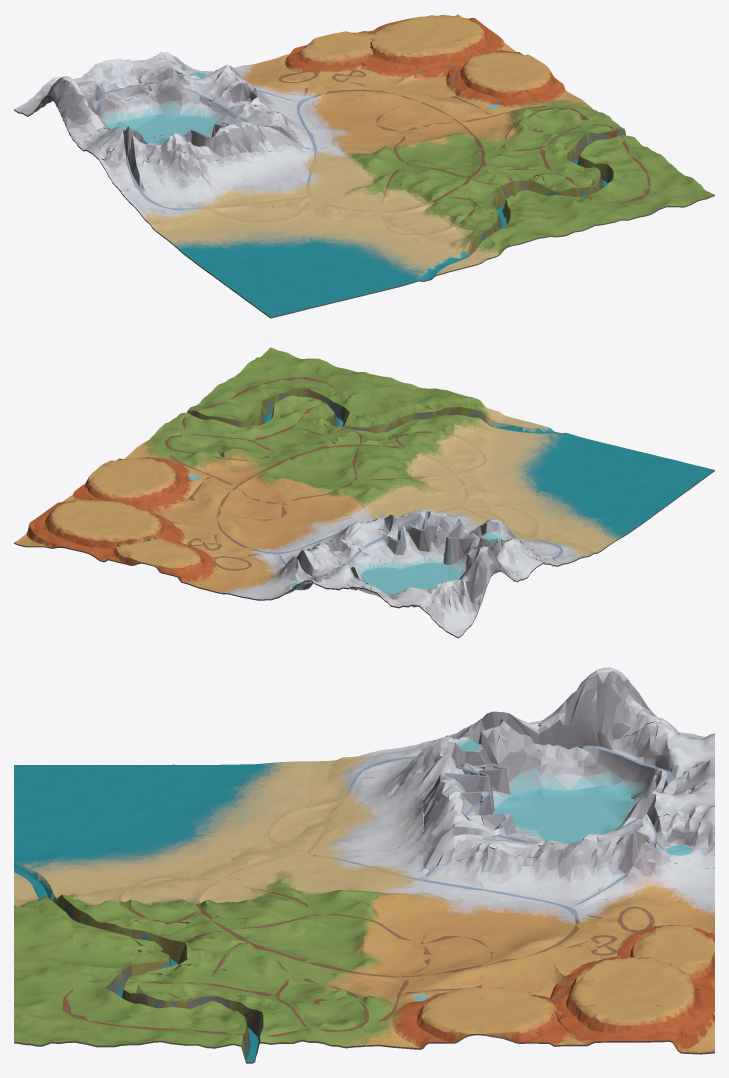
Rendered from terrain_lod1.glb.
The picture shows the model from 3 angles, top to bottom: view 1: azimuth 30°, elevation 25°; view 2: azimuth 150°, elevation 25°; view 3: azimuth 270°, elevation 25°; orthographic projection. The views are drawn at different scales.
Parts seen in each view (by area): view 1: chunk_3_10, chunk_1_6, chunk_0_7, chunk_0_9, chunk_2_11, chunk_2_6, chunk_9_9, chunk_4_9, chunk_3_6, chunk_2_10, chunk_0_6, chunk_1_7 (+122 smaller); view 2: chunk_0_11, chunk_3_8, chunk_0_10, chunk_2_8, chunk_9_11, chunk_7_11, chunk_10_11, chunk_0_8, chunk_11_11, chunk_4_8, chunk_10_8, chunk_10_2 (+114 smaller); view 3: chunk_1_10, chunk_1_8, chunk_5_10, chunk_5_9, chunk_1_9, chunk_4_11, chunk_0_10, chunk_5_8, chunk_0_9, chunk_4_7, chunk_11_11, chunk_5_7 (+129 smaller).
Boxes of the visible parts, x1,y1,x2,y2 form: chunk_3_10: [145, 67, 204, 122]; chunk_1_6: [158, 152, 216, 205]; chunk_0_7: [99, 135, 157, 191]; chunk_0_9: [57, 80, 106, 144]; chunk_2_11: [87, 58, 145, 100]; chunk_2_6: [194, 155, 253, 198]; chunk_9_9: [390, 48, 446, 86]; chunk_4_9: [204, 80, 262, 123]; chunk_3_6: [231, 151, 289, 187]; chunk_2_10: [110, 93, 168, 130]; chunk_0_6: [120, 176, 179, 216]; chunk_1_7: [140, 133, 194, 175]; chunk_0_11: [421, 582, 479, 638]; chunk_3_8: [375, 527, 433, 571]; chunk_0_10: [445, 546, 501, 606]; chunk_2_8: [411, 533, 468, 580]; chunk_9_11: [87, 529, 146, 563]; chunk_7_11: [161, 551, 219, 588]; chunk_10_11: [51, 520, 109, 553]; chunk_0_8: [493, 538, 543, 580]; chunk_11_11: [14, 514, 72, 548]; chunk_4_8: [343, 521, 395, 559]; chunk_10_8: [116, 475, 173, 508]; chunk_10_2: [244, 387, 301, 423]; chunk_1_10: [595, 722, 658, 798]; chunk_1_8: [478, 720, 540, 799]; chunk_5_10: [596, 831, 655, 899]; chunk_5_9: [538, 839, 599, 902]; chunk_1_9: [538, 735, 600, 798]; chunk_4_11: [655, 806, 714, 868]; chunk_0_10: [597, 667, 655, 741]; chunk_5_8: [479, 846, 540, 902]; chunk_0_9: [538, 670, 599, 748]; chunk_4_7: [421, 810, 483, 871]; chunk_11_11: [656, 1004, 714, 1054]; chunk_5_7: [421, 851, 483, 900].
Bounding box in the file's own units: 2403 × 412 × 2401.
